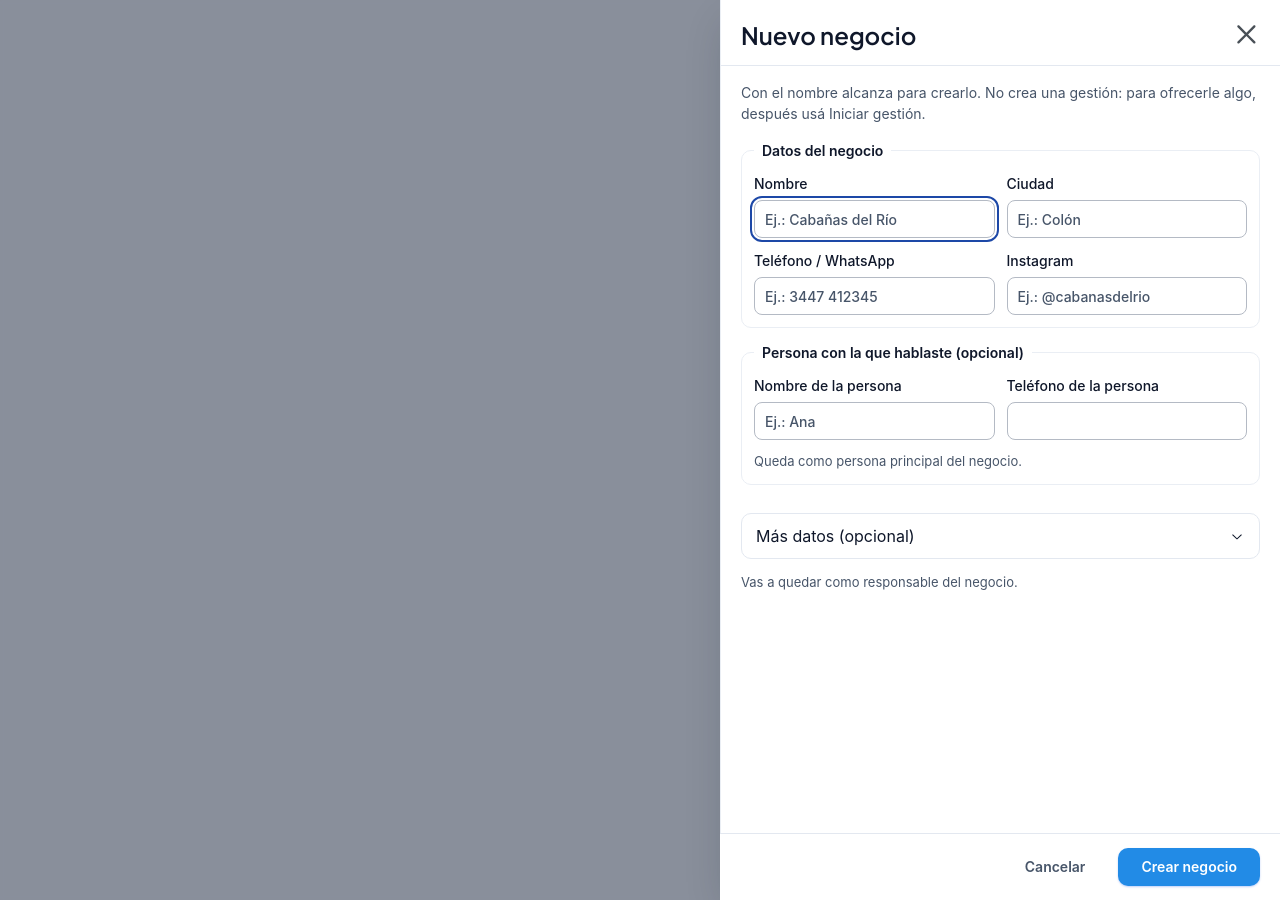
Test: BusinessQuickCreate › blocks a duplicate of a No contactar business with the decision copy
Type "Otro nombre" into the field labelled "Nombre".
click(874, 219); type("Otro nombre")  # box [754,200,994,238]
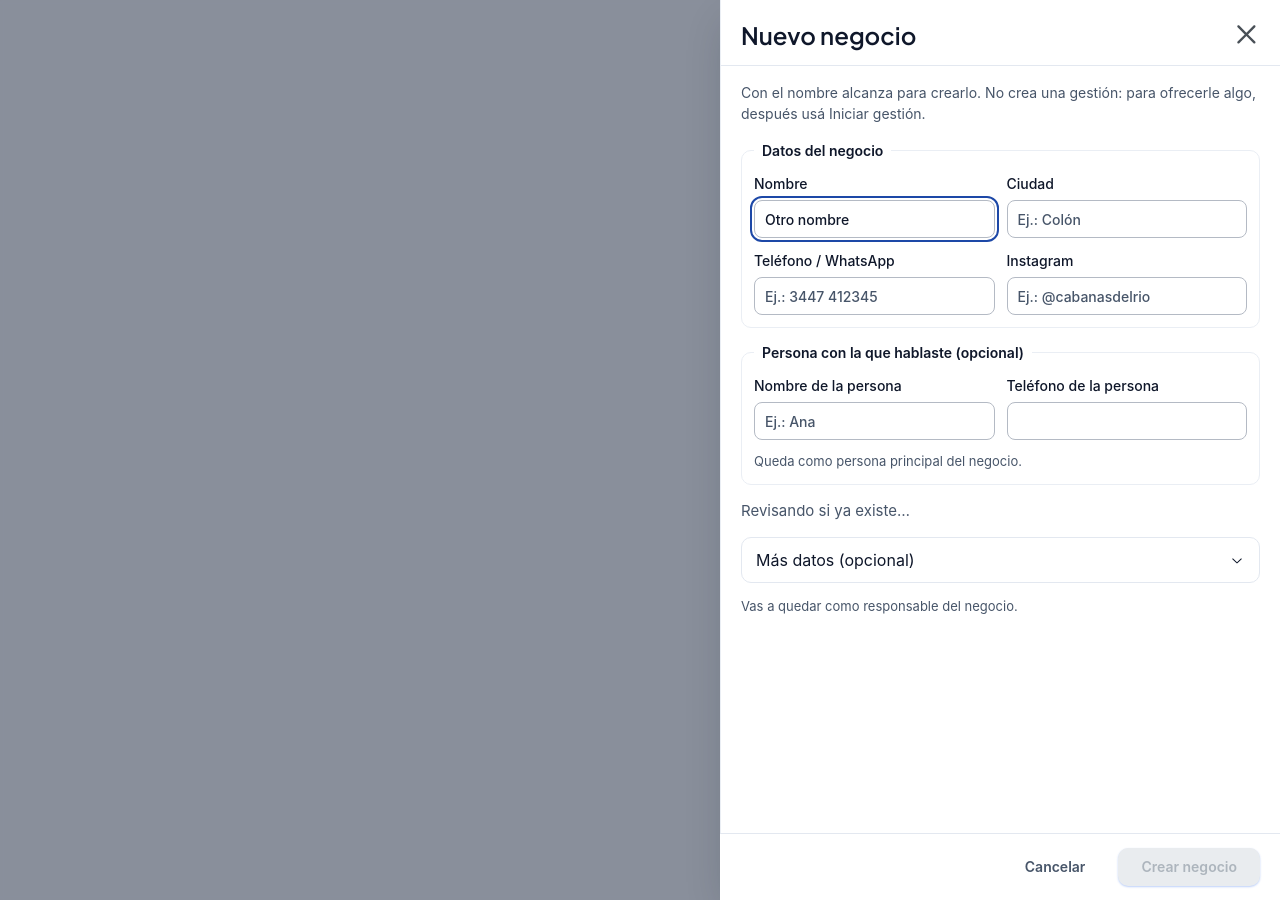
Type "3447 412345" into the field labelled "Teléfono / WhatsApp".
click(874, 296); type("3447 412345")  # box [754,277,994,315]
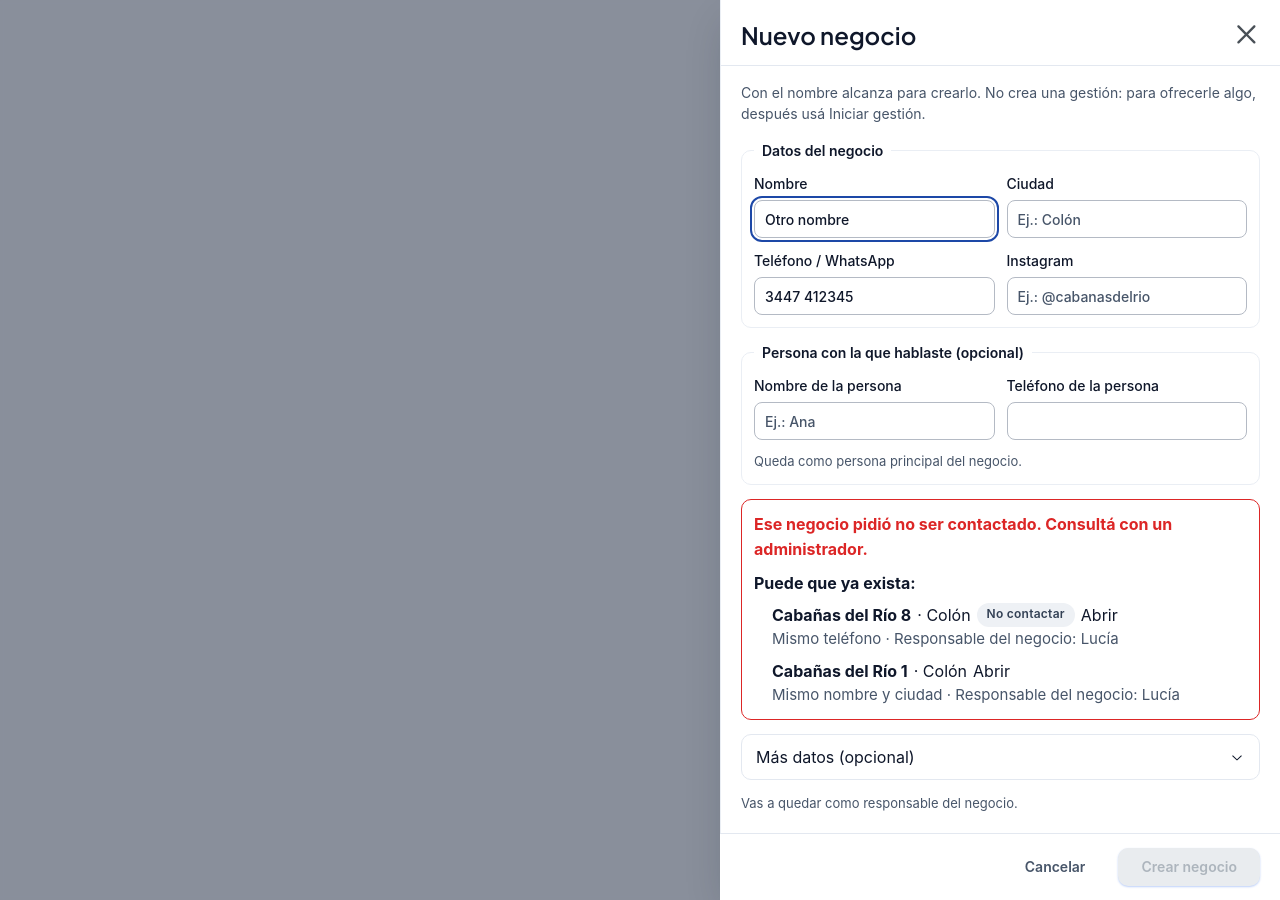
Expected: the button "Crear negocio" is disabled, [1118,848,1260,886]
Expected: the message reads "Ese negocio pidió no ser contactado. Consultá con un administrador.", [754,514,1172,559]
Expected: the text "No contactar" is shown, [987,606,1065,623]
